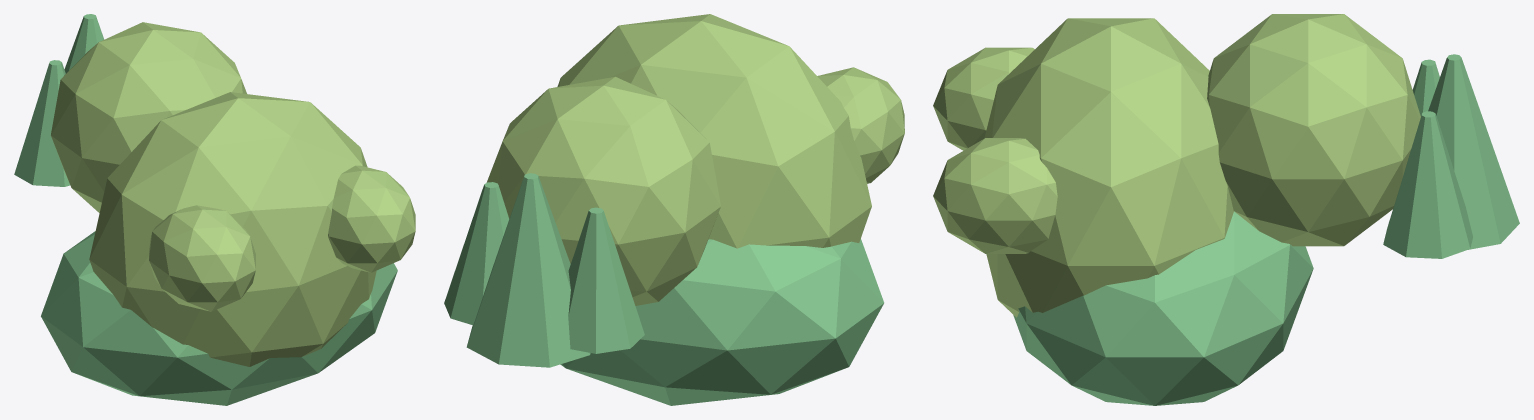
Rendered from turtwig.glb.
3 renders of one model, left to right at view 1: azimuth 30°, elevation 25°; view 2: azimuth 150°, elevation 25°; view 3: azimuth 270°, elevation 25°, orthographic. The views are drawn at different scales.
Parts seen in each view (by area): view 1: body, shell, head, legL, legR, leafL, leaf; view 2: body, shell, head, leaf, leafL, legL, leafR; view 3: body, head, shell, legR, leaf, leafR, legL, leafL.
Boxes of the visible parts, left/top/right/bottom form: body: left=89, top=92, right=376, bottom=366; shell: left=41, top=231, right=397, bottom=405; head: left=51, top=22, right=246, bottom=212; legL: left=149, top=205, right=255, bottom=311; legR: left=328, top=165, right=415, bottom=272; leafL: left=14, top=60, right=69, bottom=186; leaf: left=64, top=14, right=103, bottom=73; body: left=557, top=14, right=871, bottom=248; shell: left=560, top=239, right=884, bottom=405; head: left=486, top=76, right=720, bottom=305; leaf: left=466, top=173, right=590, bottom=367; leafL: left=568, top=207, right=644, bottom=353; legL: left=817, top=67, right=904, bottom=183; leafR: left=444, top=182, right=509, bottom=325; body: left=984, top=18, right=1233, bottom=317; head: left=1207, top=14, right=1420, bottom=246; shell: left=1013, top=211, right=1313, bottom=405; legR: left=933, top=138, right=1057, bottom=253; leaf: left=1428, top=54, right=1519, bottom=249; leafR: left=1383, top=111, right=1472, bottom=258; legL: left=933, top=47, right=1034, bottom=150; leafL: left=1412, top=59, right=1439, bottom=116.
Bounding box in the file's own units: 1.01 × 0.9559 × 1.42.
